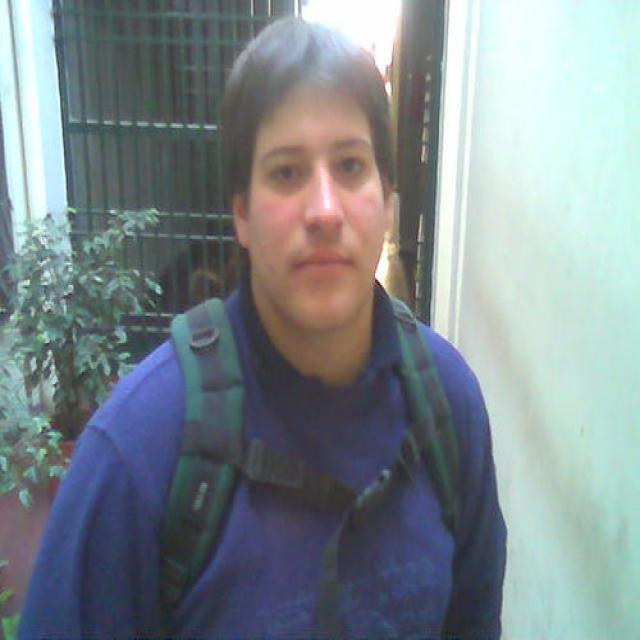person: (15, 13, 508, 639)
pottedplant: (1, 206, 198, 510)
